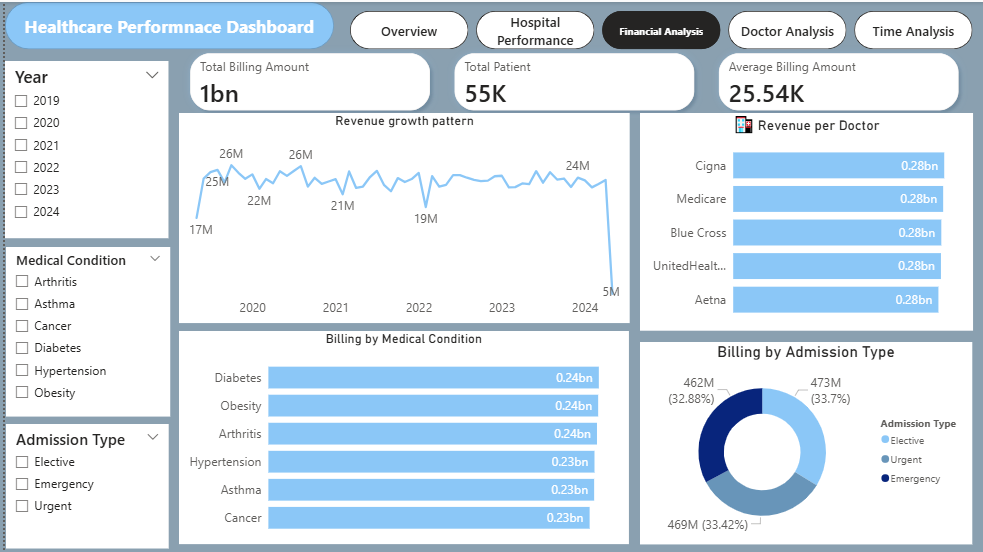

The page's visual inventory and layout, read from the dashboard file:
{"tool":"powerbi","page":{"name":"Financial Analysis","canvas":[1280,720],"ordinal":2},"visuals":[{"type":"pageNavigator","box":[452.2,11.5,815,50.4],"z":0},{"type":"cardVisual","fields":{"Data":["Measure.Total Biling Amount","Measure.Total Patient","Measure.Average Billing Amount"]},"box":[214,38.3,1065.8,133.2],"z":1},{"type":"shape","box":[0,0,430.6,61.9],"z":2},{"type":"barChart","title":"Billing by Medical Condition","fields":{"Y":["Measure.Total Billing Amount"],"Category":["healthcare_dataset.Medical Condition"]},"box":[227.5,430.6,589,279.4],"z":4},{"type":"barChart","title":"🏥 Revenue per Doctor","fields":{"Y":["Measure.Total Billing Amount"],"Category":["healthcare_dataset.Insurance Provider"]},"box":[830.9,145.4,436.3,285.1],"z":5},{"type":"slicer","fields":{"Values":["healthcare_dataset.Date of Admission.Variation.Date Hierarchy.Year"]},"box":[0,77.4,214.2,232.3],"z":6},{"type":"slicer","fields":{"Values":["healthcare_dataset.Medical Condition"]},"box":[1.4,320.1,214.6,221.8],"z":7},{"type":"slicer","fields":{"Values":["healthcare_dataset.Admission Type"]},"box":[1.3,552.3,212.9,162.6],"z":8},{"type":"donutChart","title":"Billing by Admission Type","fields":{"Y":["Measure.Total Billing Amount"],"Category":["healthcare_dataset.Admission Type"]},"box":[830.9,445,434.9,265],"z":9},{"type":"lineChart","title":"Revenue growth pattern","fields":{"Category":["healthcare_dataset.Date of Admission.Variation.Date Hierarchy.Year","healthcare_dataset.Date of Admission.Variation.Date Hierarchy.Month"],"Y":["Measure.Total Billing Amount"]},"box":[227.5,145.4,590.4,275],"z":10}]}

Visuals, with their boxes in screenshot pixels (x1, y1, x2, y2), scaled from the page's 1280x720 canvas onto the 983x552 screenshot:
pageNavigator: {"x1": 347, "y1": 9, "x2": 973, "y2": 47}
cardVisual - Measure.Total Biling Amount x Measure.Total Patient: {"x1": 164, "y1": 29, "x2": 982, "y2": 131}
shape: {"x1": 0, "y1": 0, "x2": 331, "y2": 47}
"Billing by Medical Condition" barChart: {"x1": 175, "y1": 330, "x2": 627, "y2": 544}
"🏥 Revenue per Doctor" barChart: {"x1": 638, "y1": 111, "x2": 973, "y2": 330}
slicer - healthcare_dataset.Date of Admission.Variation.Date Hierarchy.Year: {"x1": 0, "y1": 59, "x2": 164, "y2": 237}
slicer - healthcare_dataset.Medical Condition: {"x1": 1, "y1": 245, "x2": 166, "y2": 415}
slicer - healthcare_dataset.Admission Type: {"x1": 1, "y1": 423, "x2": 164, "y2": 548}
"Billing by Admission Type" donutChart: {"x1": 638, "y1": 341, "x2": 972, "y2": 544}
"Revenue growth pattern" lineChart: {"x1": 175, "y1": 111, "x2": 628, "y2": 322}
